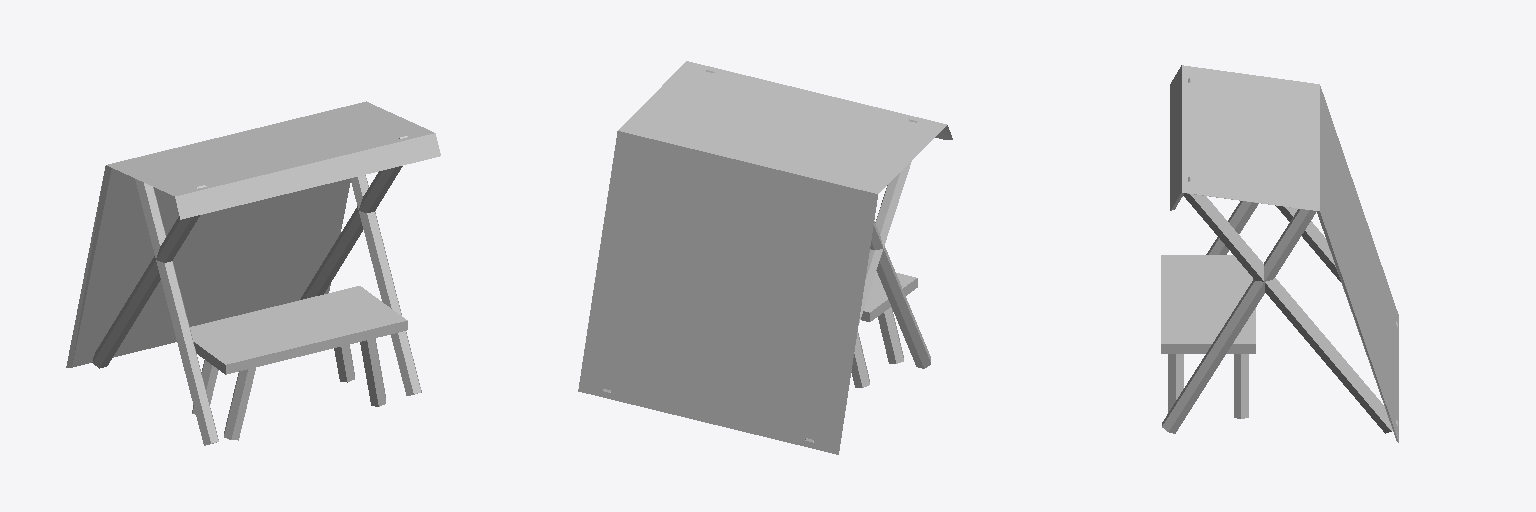
File: TradeTent.obj
3 renders of one model, left to right at view 1: azimuth 30°, elevation 25°; view 2: azimuth 150°, elevation 25°; view 3: azimuth 270°, elevation 25°, orthographic.
Parts seen in each view (by area): view 1: Plane.001; view 2: Plane.001; view 3: Plane.001.
Boxes of the visible parts, box(x1,y1,x2,y2) form: Plane.001: box(66, 101, 440, 445); Plane.001: box(578, 61, 952, 454); Plane.001: box(1161, 65, 1398, 442).
Bounding box in the file's own units: 5.04 × 4.7 × 3.98.